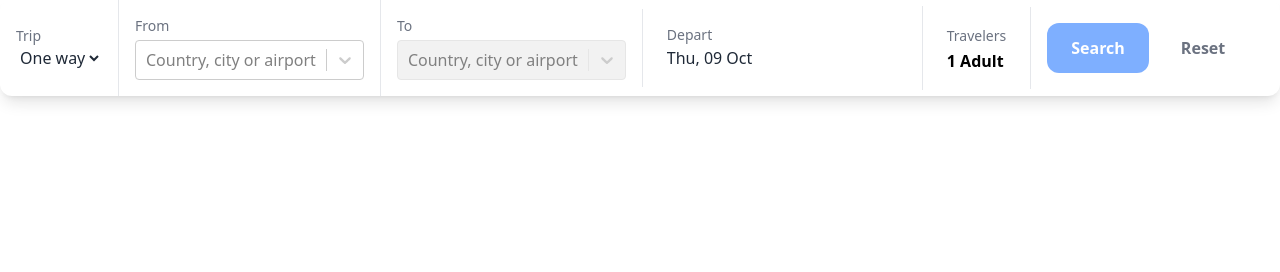
Test: FlightSearchForm › toggles passenger selector on click
The width and height of the screenshot is (1280, 272).
Click the text "Travelers".
click(977, 36)  # box [947,26,1006,45]
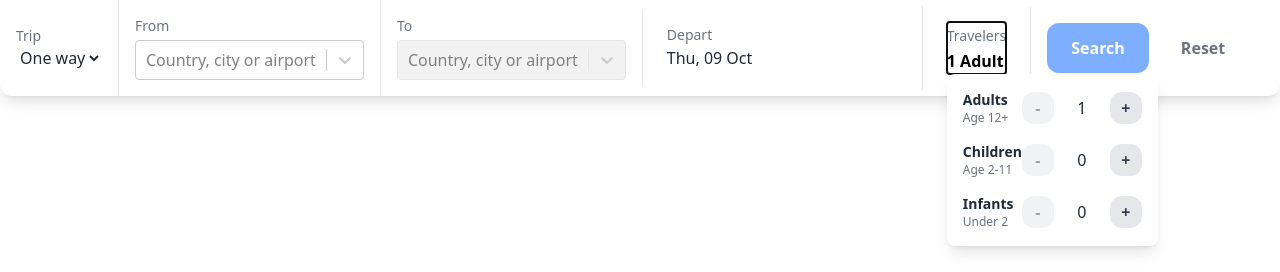
Now the heading "Adults" is shown, box [963,90,1008,110]
Click the text "Travelers".
click(977, 36)  # box [947,26,1006,45]
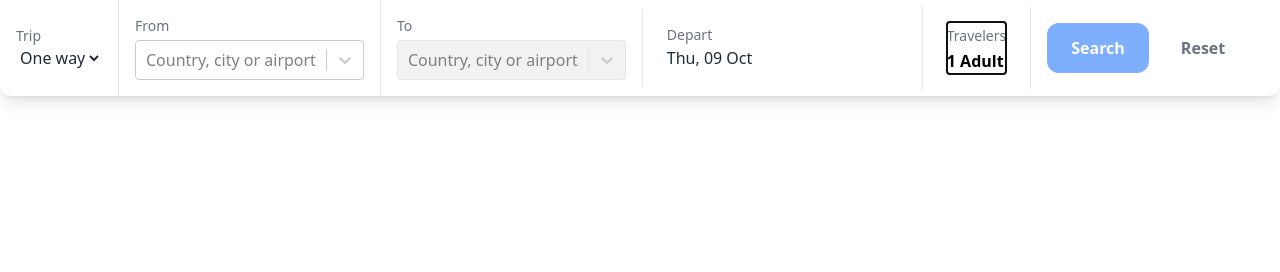
Now the heading "Adults" is gone
